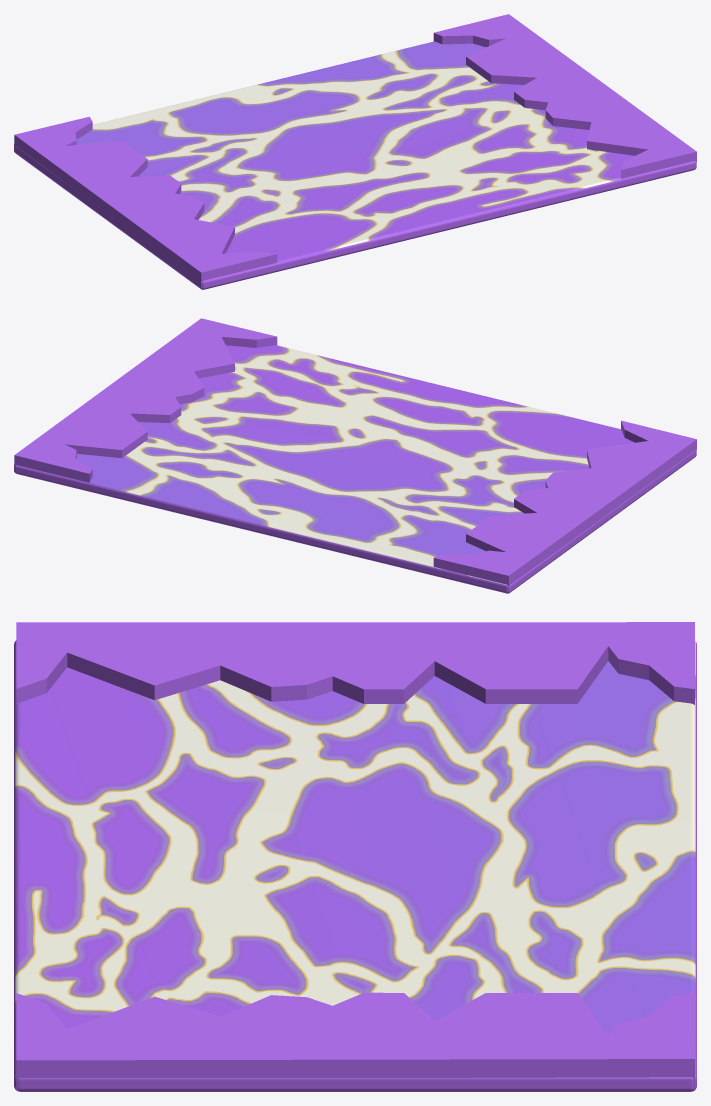
File: 일반타일(1).fbx
The picture shows the model from 3 angles, top to bottom: view 1: azimuth 30°, elevation 25°; view 2: azimuth 150°, elevation 25°; view 3: azimuth 270°, elevation 25°; orthographic projection. The views are drawn at different scales.
Visible parts, largest first — view 1: Cube.002, Plane.003; view 2: Cube.002, Plane.003; view 3: Cube.002, Plane.003.
Part boxes in pixels (x1=…): Cube.002: x1=14, y1=41, x2=696, y2=289; Plane.003: x1=14, y1=14, x2=696, y2=288; Cube.002: x1=14, y1=345, x2=696, y2=593; Plane.003: x1=14, y1=318, x2=696, y2=592; Cube.002: x1=14, y1=640, x2=696, y2=1091; Plane.003: x1=16, y1=622, x2=694, y2=1089.
Bounding box in the file's own units: 2017 × 73.65 × 1329.
Materials: 1 (1 with a texture image).
